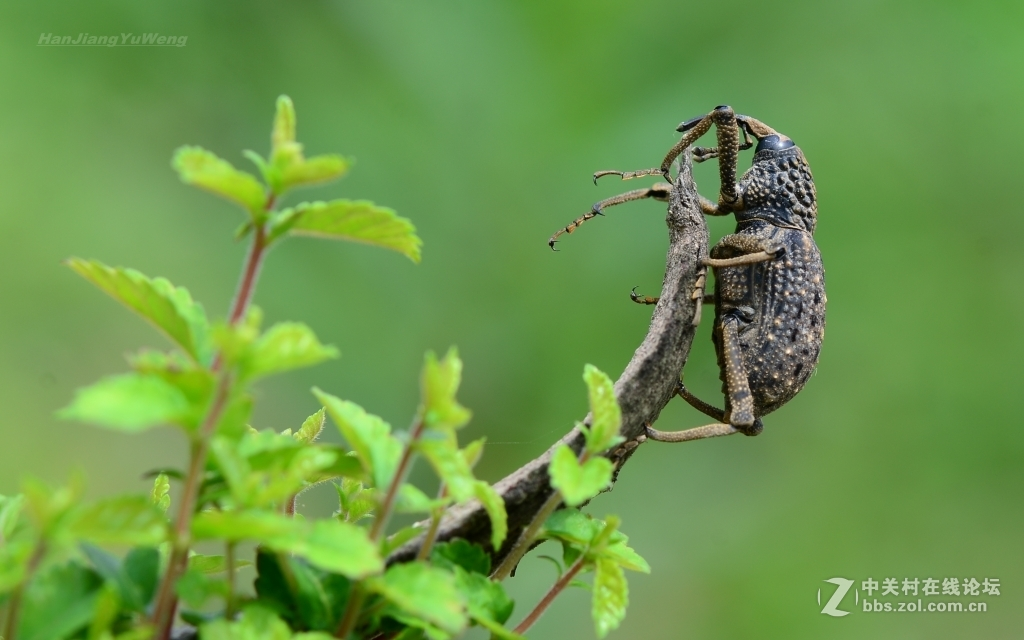Curculionidae: (548, 104, 827, 463)
